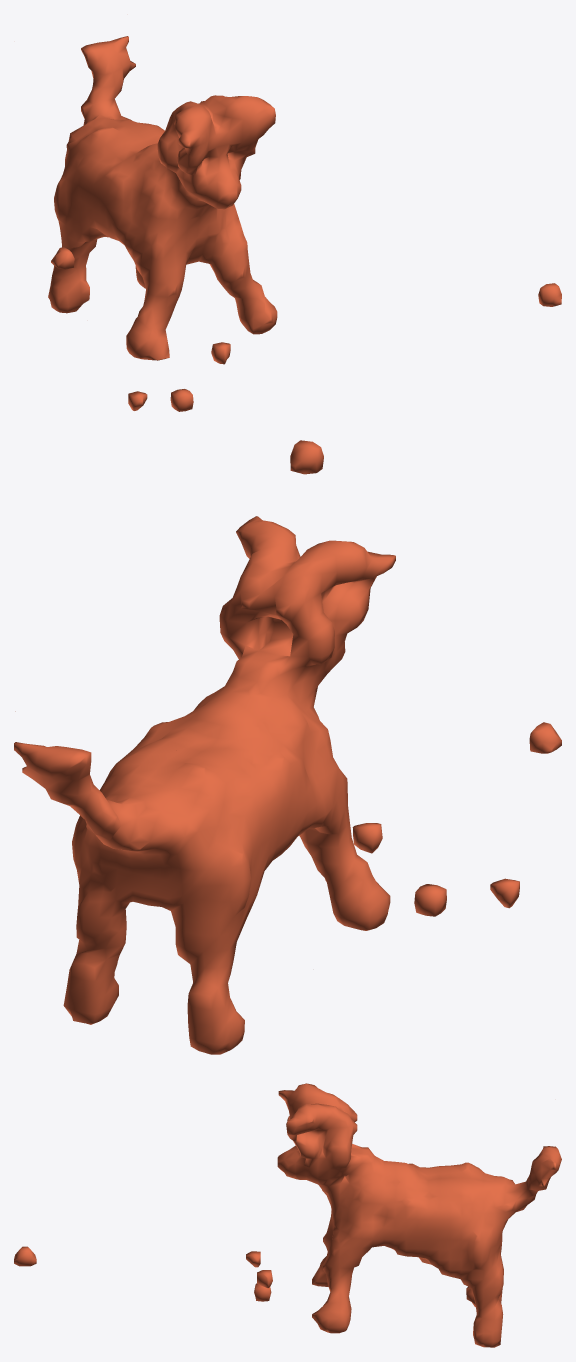
File: smoothnormals.glb
3 renders of one model, top to bottom at view 1: azimuth 30°, elevation 25°; view 2: azimuth 150°, elevation 25°; view 3: azimuth 270°, elevation 25°, orthographic. The views are drawn at different scales.
Parts seen in each view (by area): view 1: GDExample; view 2: GDExample; view 3: GDExample.
Part boxes in pixels (<box>): GDExample: <box>48,36,561,411</box>; GDExample: <box>14,440,561,1054</box>; GDExample: <box>14,1083,561,1347</box>.
Size of the model in its own units: 3.03 by 2.32 by 4.96.
